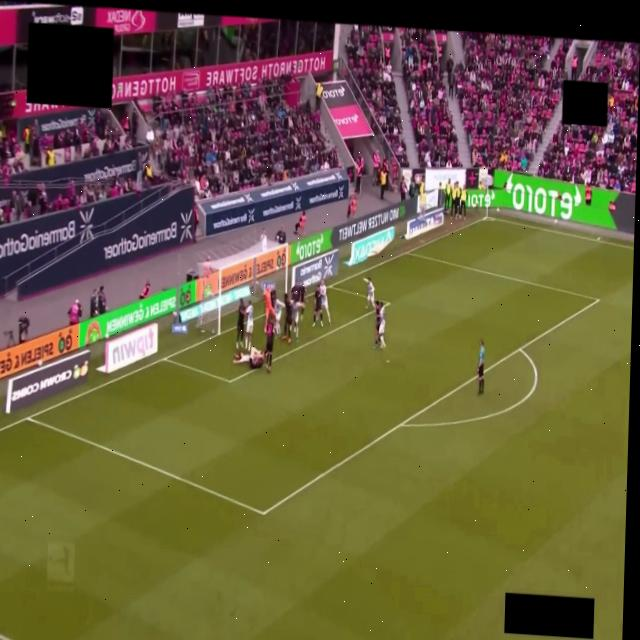player: (233, 347, 263, 369), (264, 315, 274, 371), (318, 279, 330, 325), (235, 299, 244, 350), (282, 294, 291, 342), (273, 299, 284, 336), (264, 285, 273, 329), (244, 301, 252, 350), (377, 303, 385, 348), (313, 286, 322, 326), (363, 278, 374, 309), (373, 301, 380, 348), (291, 300, 299, 341), (297, 284, 305, 320), (290, 284, 297, 301)
referee: (477, 341, 484, 395)
